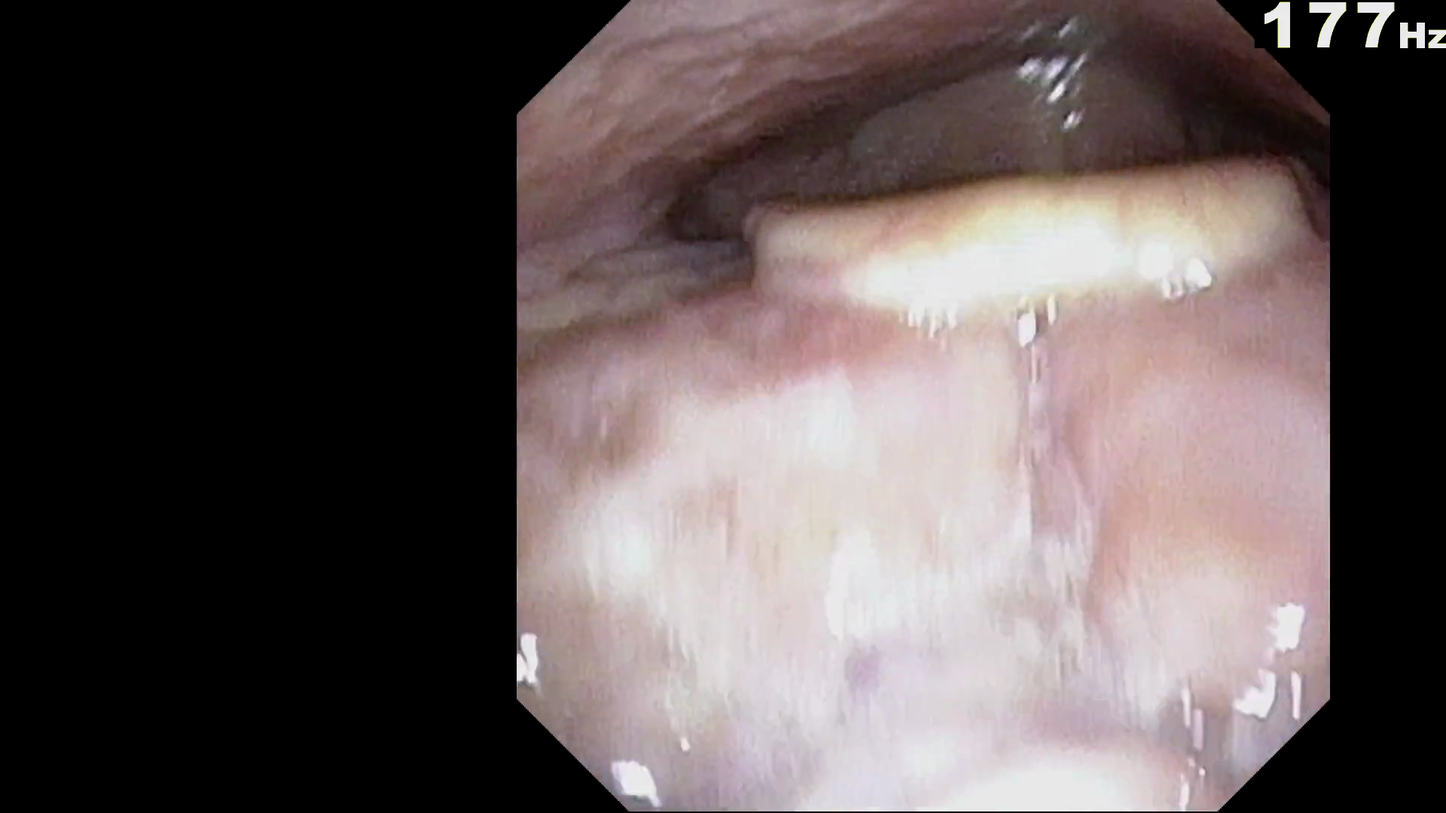epiglottis: (737, 203, 1312, 487)
trachea: (986, 147, 1132, 302)
